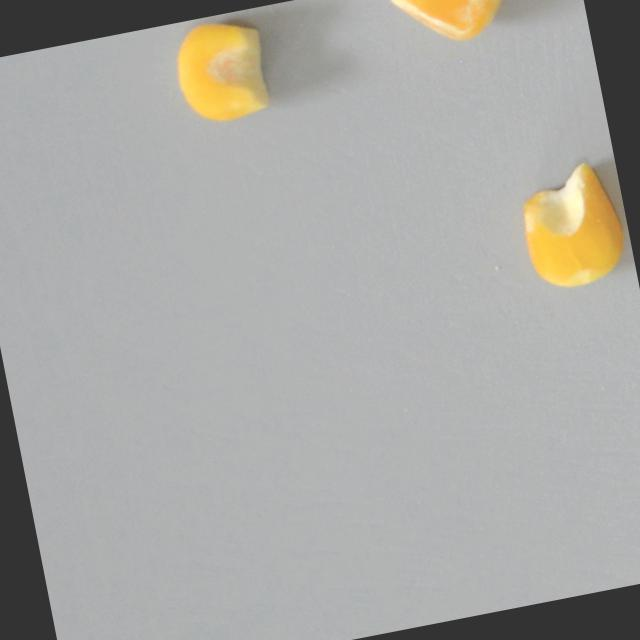dañado: (505, 151, 637, 302), (388, 0, 529, 60)
no_canjicado: (163, 8, 280, 134)
